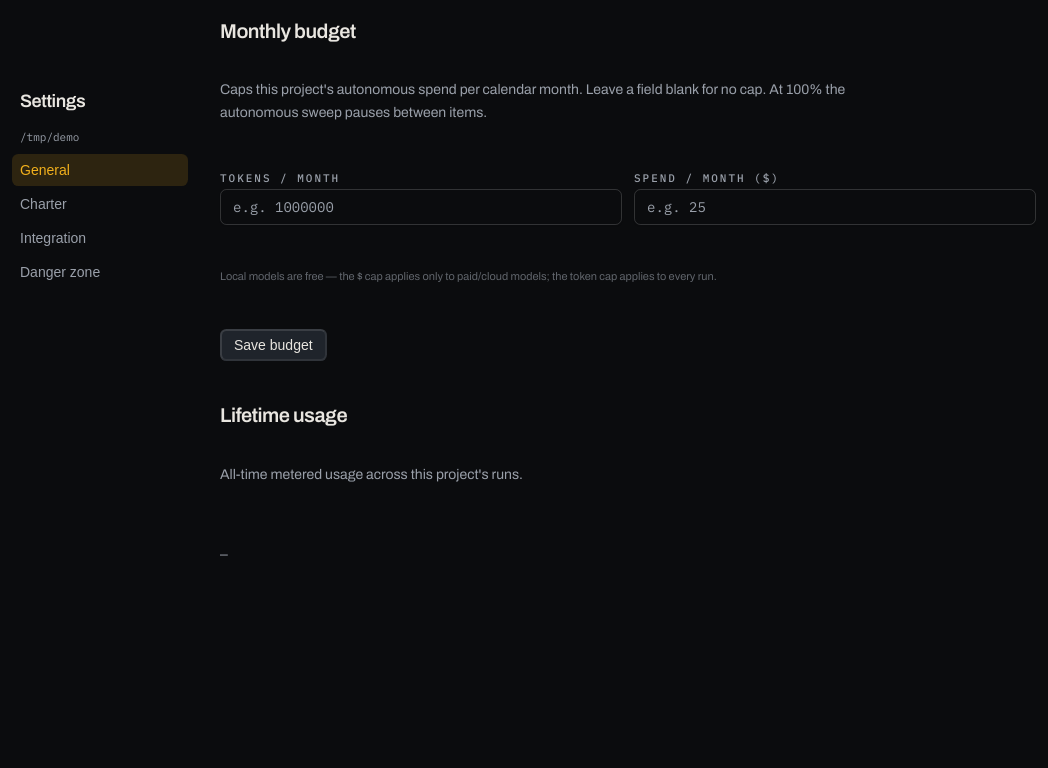
Scenario: Project settings › states exactly what deletion does
Step 1. Click the button "Danger zone" → (100, 272), box [12,256,188,288]
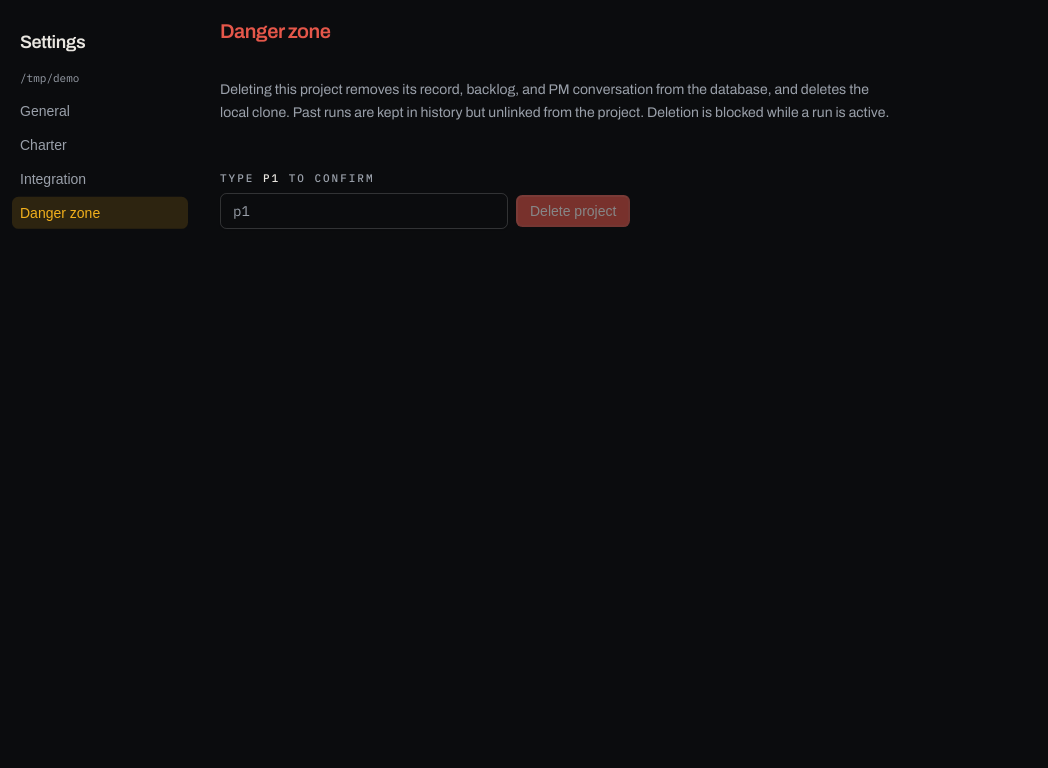
Expected: the text "Past runs are kept in history but unlinked from the project" is shown, [220,82,889,120]
